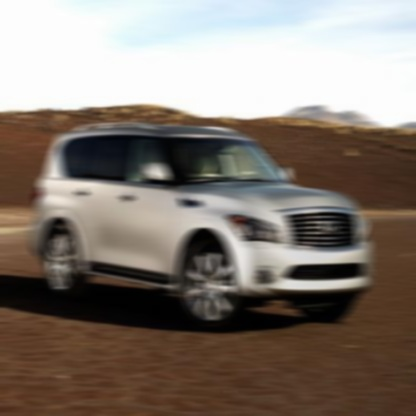Vehicle: (30, 122, 370, 333)
